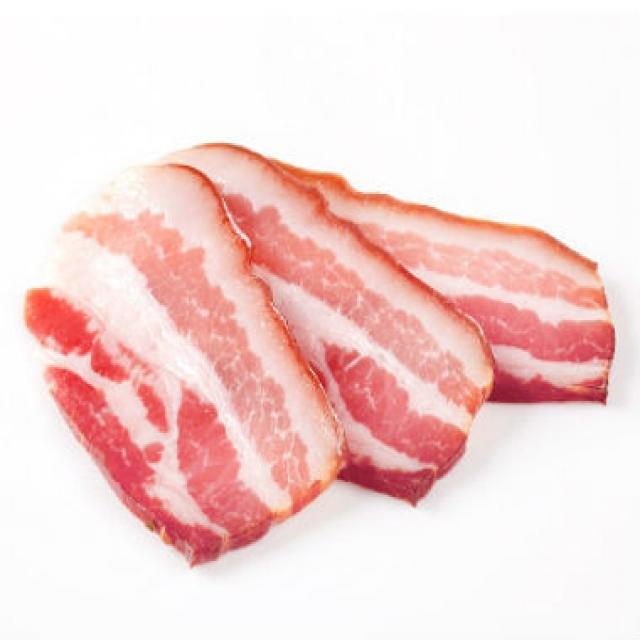Bacon Slice: (20, 162, 334, 546), (175, 141, 489, 497), (263, 145, 608, 412)
